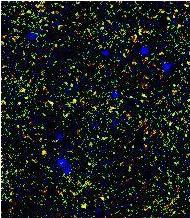star: (28, 135, 58, 165)
